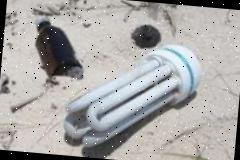lightbulb: (61, 34, 204, 156)
